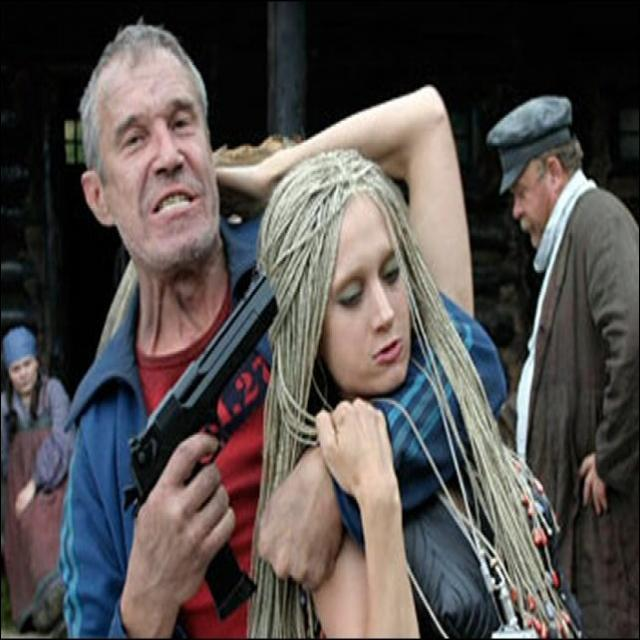gun-knife-thesis - v11 Yolov5 augmented: (123, 252, 285, 627)
